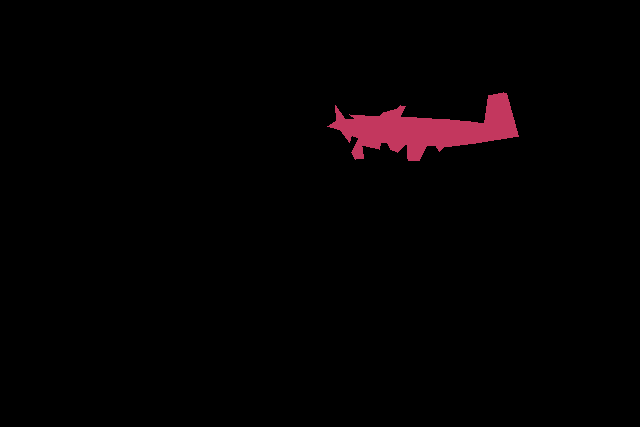Airplane: (327, 92, 519, 160)
